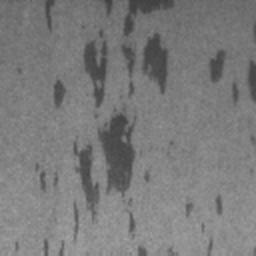Red iron sheet: (38, 0, 177, 256), (209, 47, 256, 104), (184, 195, 223, 218), (137, 244, 180, 256), (44, 0, 58, 35), (206, 238, 215, 256)
